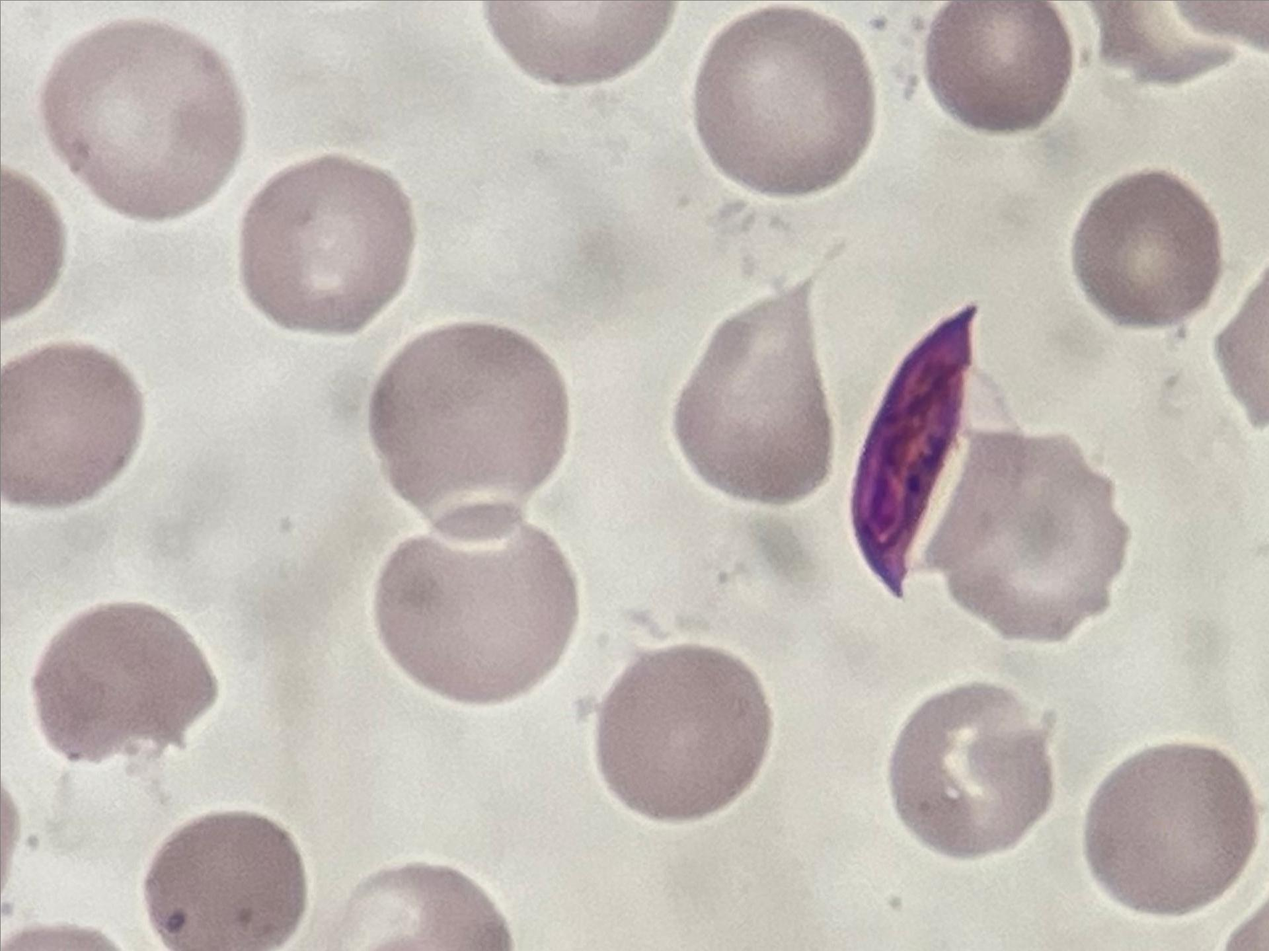Infected: (849, 303, 1024, 604)
Uninfected: (365, 321, 569, 547), (924, 425, 1130, 641), (372, 501, 578, 705), (41, 20, 247, 223), (674, 283, 831, 501), (694, 9, 873, 198), (238, 156, 414, 334), (595, 645, 770, 822), (31, 602, 220, 760), (1084, 742, 1259, 911), (889, 683, 1054, 861), (0, 341, 146, 509), (1069, 169, 1222, 324), (144, 810, 306, 948), (924, 0, 1074, 135)
